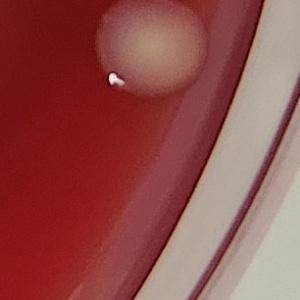colony: (89, 0, 218, 106)
